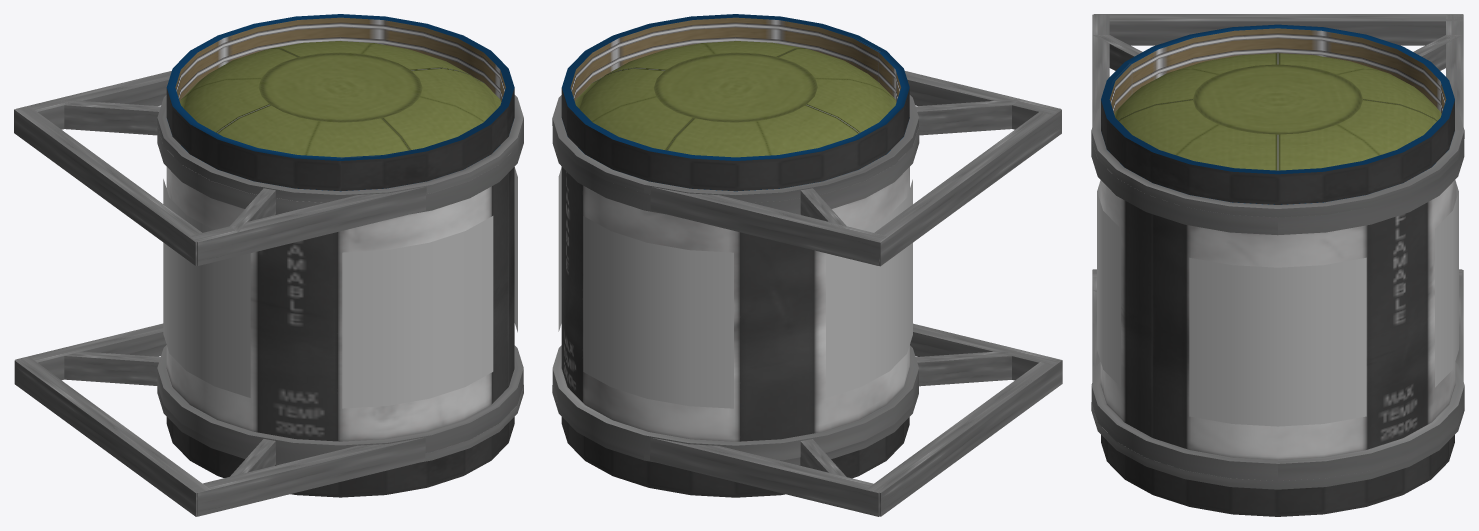
Rendered from FLM-900.FBX.
The picture shows the model from 3 angles, left to right: view 1: azimuth 30°, elevation 25°; view 2: azimuth 150°, elevation 25°; view 3: azimuth 270°, elevation 25°; orthographic projection.
Parts seen in each view (by area): view 1: Cylinder002, EndCap001, decalPanel001, TankSleeve001, decalPanel004, Box006, Box011, Box007, MountingBracketBand002, Box003, TankSleeve002, BarrelBand003 (+9 smaller); view 2: Cylinder002, EndCap001, decalPanel003, TankSleeve001, decalPanel004, Box001, MountingBracketBand002, Box010, Box011, Box003, TankSleeve002, BarrelBand003 (+9 smaller); view 3: Cylinder002, EndCap001, decalPanel002, TankSleeve001, TankSleeve002, MountingBracketBand002, Box003, MountingBracketBand001, BarrelBand003, decalPanel001, decalPanel003, BarrelBand002 (+6 smaller).
Boxes of the visible parts, x1,y1,x2,y2 form: Cylinder002: (166, 167, 514, 441); EndCap001: (167, 41, 501, 191); decalPanel001: (342, 216, 493, 408); TankSleeve001: (166, 14, 514, 190); decalPanel004: (163, 179, 250, 397); Box006: (189, 186, 426, 265); Box011: (14, 357, 210, 516); Box007: (189, 437, 425, 516); MountingBracketBand002: (157, 345, 523, 459); Box003: (14, 106, 201, 265); TankSleeve002: (166, 417, 514, 497); BarrelBand003: (157, 95, 523, 202); Cylinder002: (561, 167, 909, 441); EndCap001: (567, 41, 903, 191); decalPanel003: (583, 216, 733, 408); TankSleeve001: (561, 14, 909, 191); decalPanel004: (826, 179, 912, 397); Box001: (650, 187, 886, 265); MountingBracketBand002: (552, 345, 918, 460); Box010: (650, 437, 879, 516); Box011: (866, 360, 1062, 516); Box003: (866, 109, 1061, 266); TankSleeve002: (561, 417, 909, 497); BarrelBand003: (552, 95, 918, 202); Cylinder002: (1100, 180, 1455, 459); EndCap001: (1107, 53, 1448, 204); decalPanel002: (1189, 257, 1366, 426); TankSleeve001: (1101, 24, 1454, 204); TankSleeve002: (1101, 435, 1454, 516); MountingBracketBand002: (1091, 362, 1464, 480); Box003: (1093, 14, 1463, 45); MountingBracketBand001: (1091, 139, 1464, 235); BarrelBand003: (1091, 107, 1464, 217); decalPanel001: (1097, 180, 1120, 387); decalPanel003: (1435, 180, 1458, 387); BarrelBand002: (1091, 402, 1464, 489).
Size of what is drawn, in the model's own units: 2.45 by 1.97 by 2.
